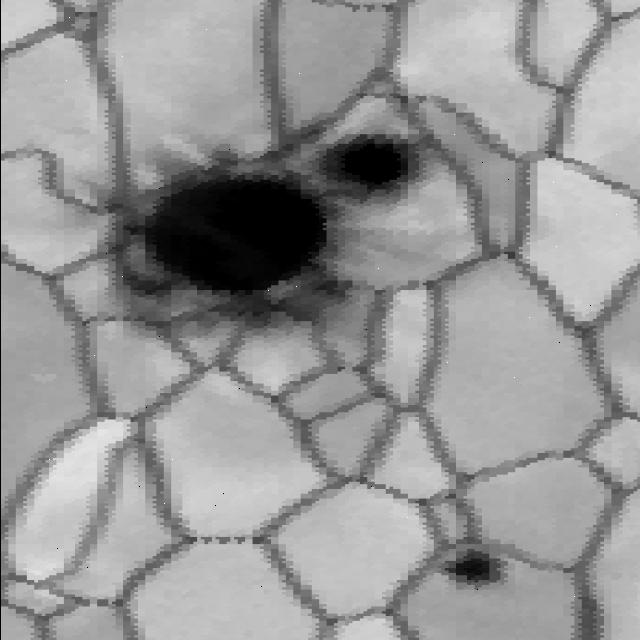good_void: (104, 145, 367, 346), (308, 120, 441, 213), (423, 546, 520, 596)
